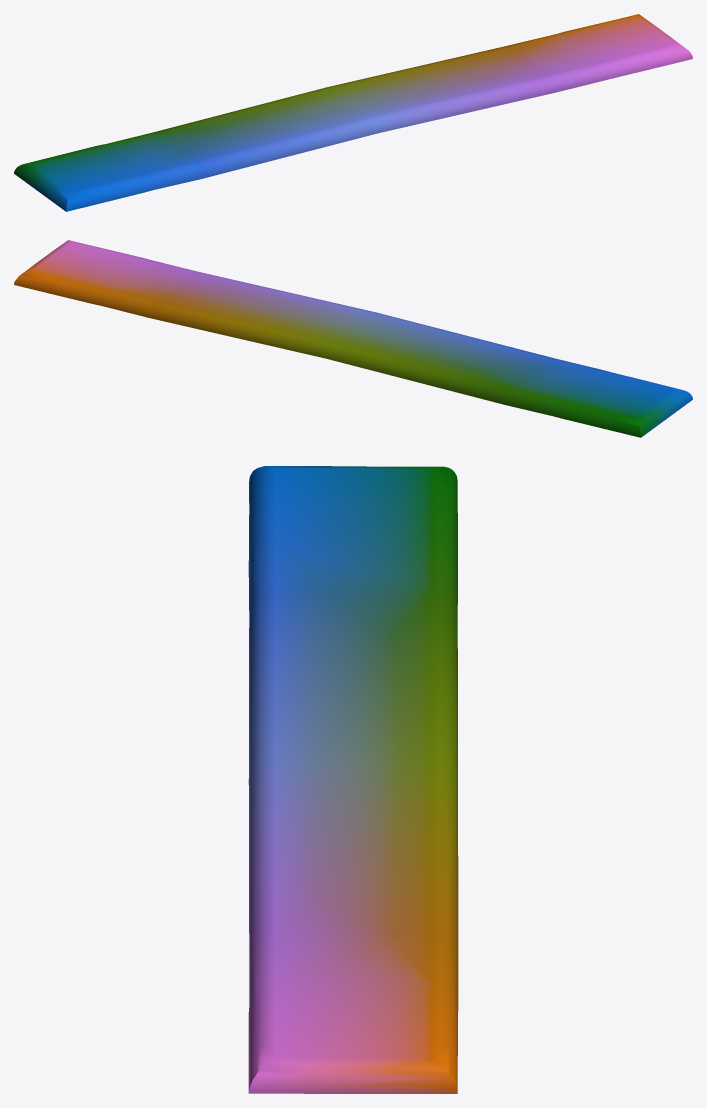
File: SM_ROAD_27_3_0_27_crosswalk.FBX
3 views of the same model, one above another, from view 1: azimuth 30°, elevation 25°; view 2: azimuth 150°, elevation 25°; view 3: azimuth 270°, elevation 25° (orthographic). The views are drawn at different scales.
Parts seen in each view (by area): view 1: SM_ROAD_27_3_0_27_crosswalk; view 2: SM_ROAD_27_3_0_27_crosswalk; view 3: SM_ROAD_27_3_0_27_crosswalk.
Part boxes in pixels (left/top/right/bottom): SM_ROAD_27_3_0_27_crosswalk: left=14, top=14, right=692, bottom=211; SM_ROAD_27_3_0_27_crosswalk: left=14, top=240, right=692, bottom=437; SM_ROAD_27_3_0_27_crosswalk: left=248, top=466, right=458, bottom=1093.
Size of the model in its own units: 2804 by 406 by 63.68.
